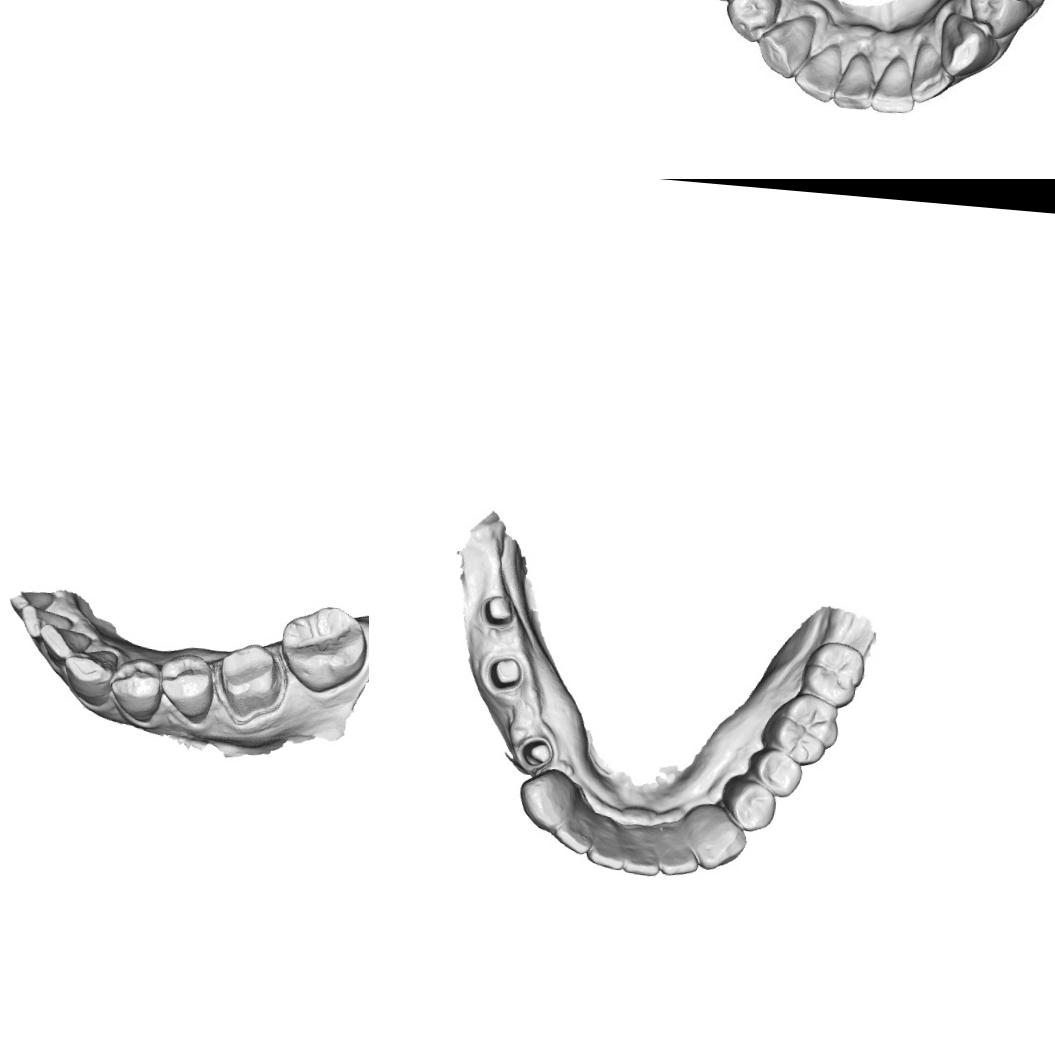abutment: (484, 650, 528, 696), (477, 592, 517, 632), (516, 734, 554, 771)
canine: (748, 11, 818, 85), (515, 764, 578, 834), (58, 643, 120, 708), (690, 816, 749, 874), (940, 17, 992, 75)
crown: (208, 634, 288, 728)
incisor: (906, 38, 954, 106), (870, 50, 918, 118), (790, 39, 839, 104), (834, 48, 876, 114), (35, 621, 96, 664), (17, 602, 71, 647), (657, 836, 701, 880), (552, 812, 594, 858), (583, 832, 626, 875), (620, 840, 661, 879)
molar: (277, 595, 369, 695), (757, 688, 842, 768), (798, 638, 866, 706)
premolar: (156, 649, 218, 726), (106, 652, 166, 726), (720, 772, 778, 833), (744, 743, 804, 800), (971, 0, 1032, 38), (727, 0, 779, 38)
